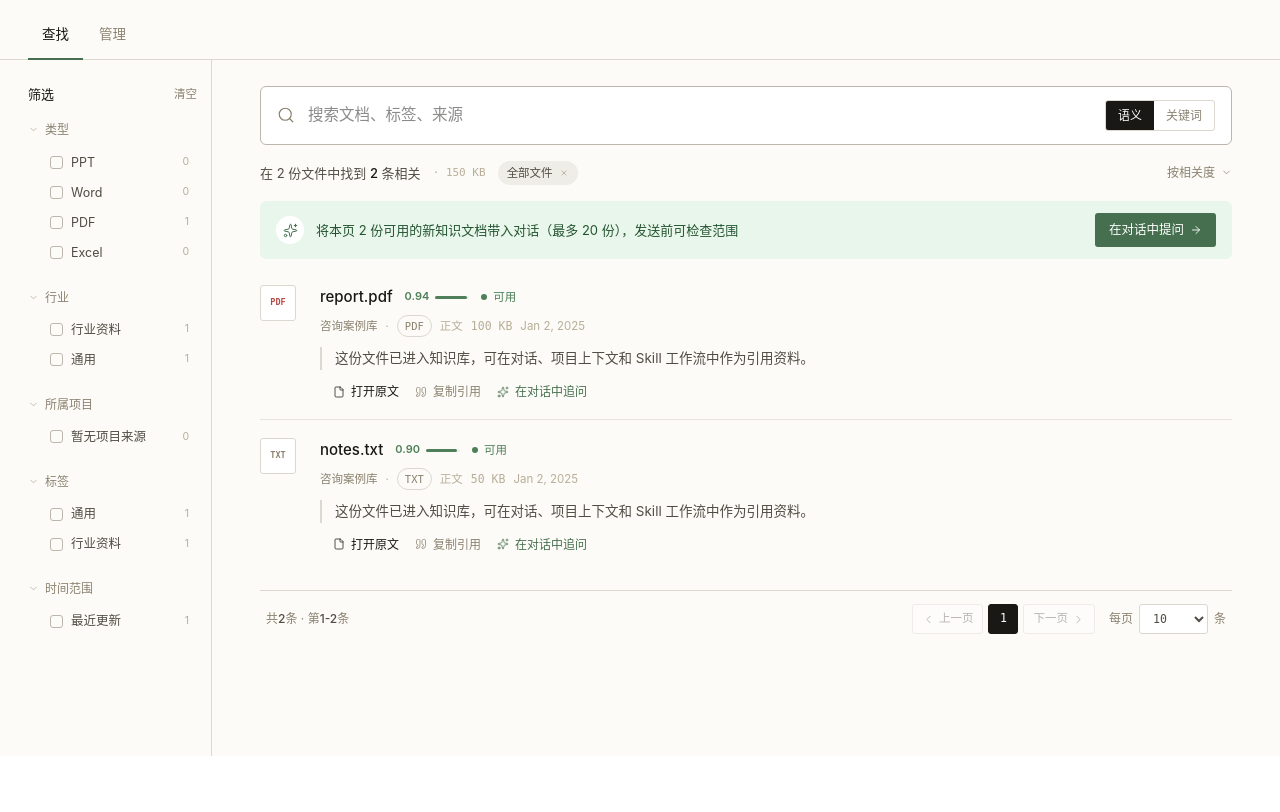
Knowledge › filters documents by search
In the field named "搜索知识库": (700, 115) x1=308 y1=103 x2=1092 y2=128, type "report"
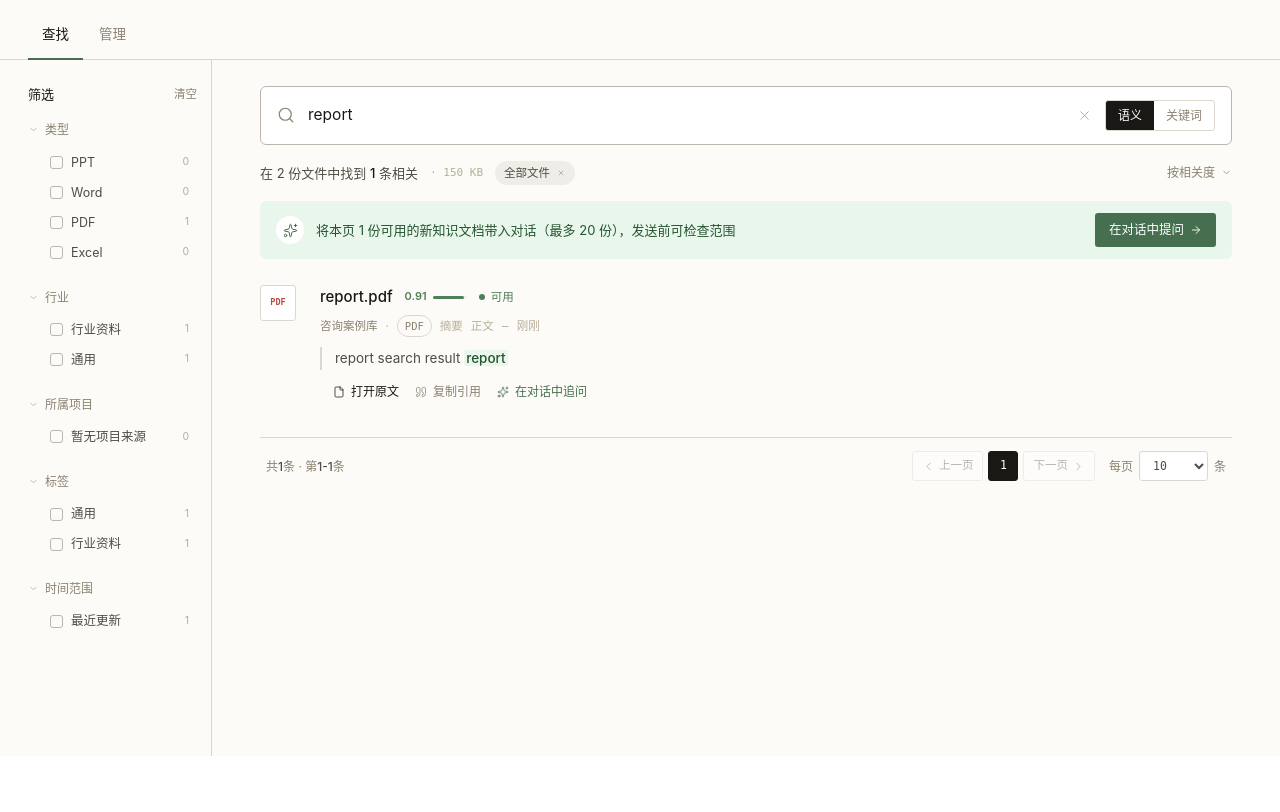
Expected: the text "report.pdf" is shown, x1=320 y1=285 x2=393 y2=309
Now the text "notes.txt" is gone
